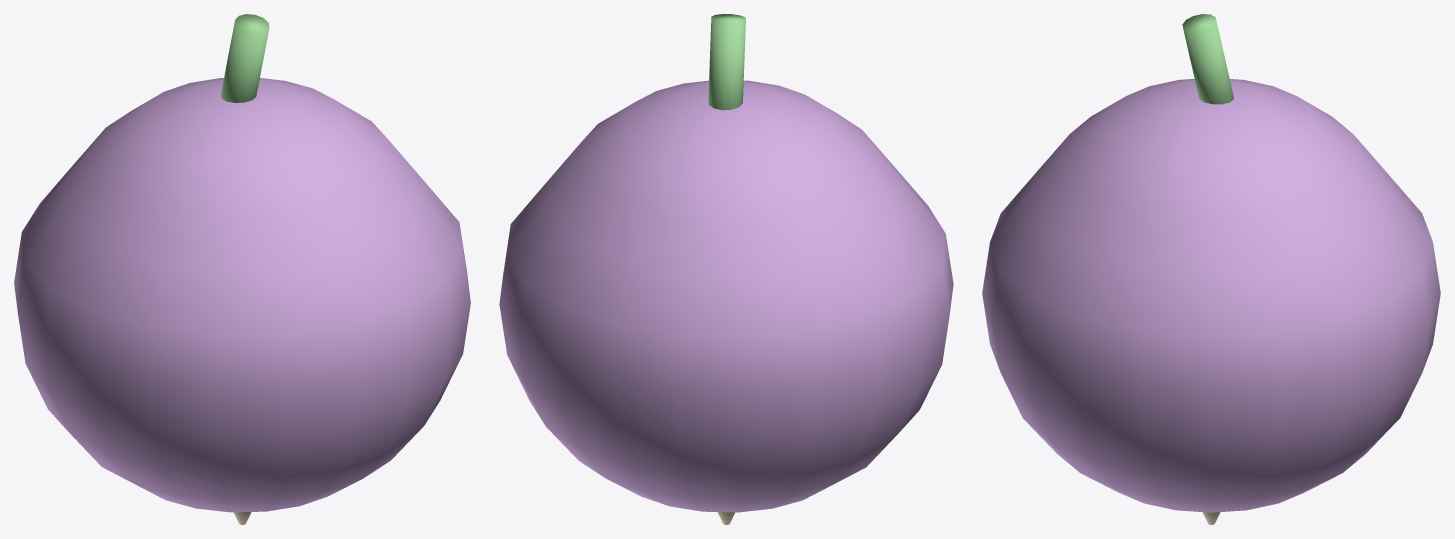
File: onion.glb
The picture shows the model from 3 angles, left to right: view 1: azimuth 30°, elevation 25°; view 2: azimuth 150°, elevation 25°; view 3: azimuth 270°, elevation 25°; orthographic projection.
Parts seen in each view (by area): view 1: onion; view 2: onion; view 3: onion.
Boxes of the visible parts, bbox=[...] form: onion: bbox=[14, 14, 470, 524]; onion: bbox=[499, 14, 953, 524]; onion: bbox=[982, 14, 1440, 524].
Bounding box in the file's own units: 0.715 × 0.8699 × 0.715.
